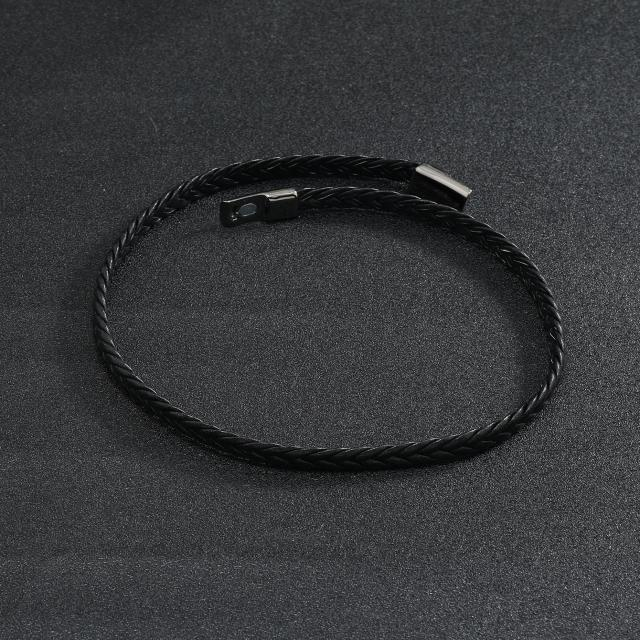bracelet: (54, 112, 640, 512)
